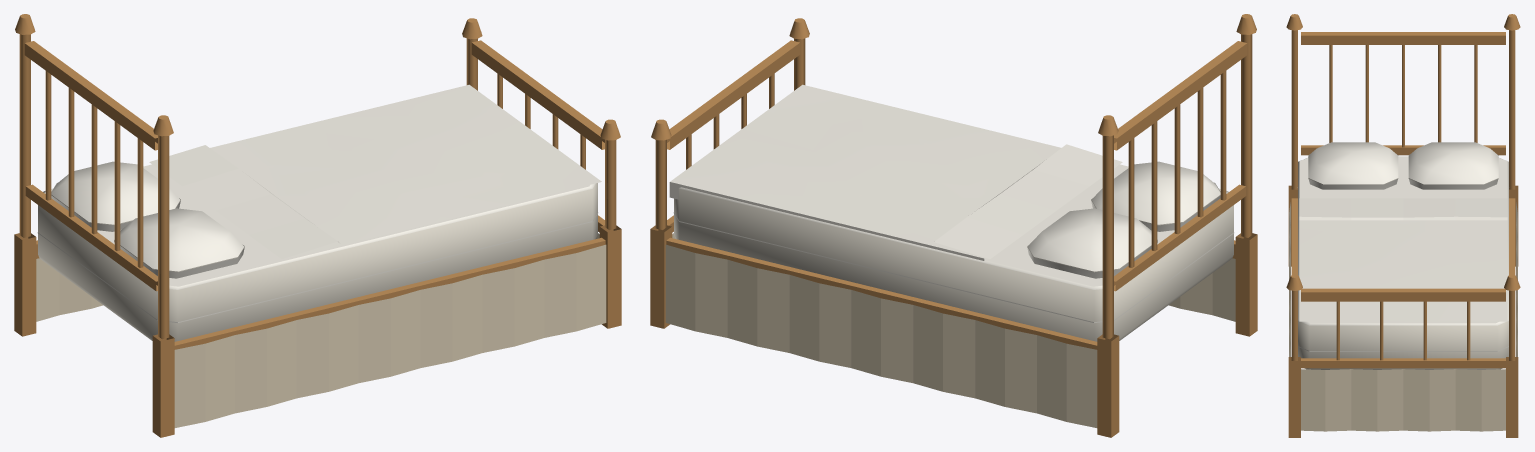
Rendered from parametric-bed-1st.glb.
3 views of the same model, side by side, from view 1: azimuth 30°, elevation 25°; view 2: azimuth 150°, elevation 25°; view 3: azimuth 270°, elevation 25° (orthographic). The views are drawn at different scales.
Parts seen in each view (by area): view 1: parametric-bed-1st; view 2: parametric-bed-1st; view 3: parametric-bed-1st.
Part boxes in pixels (<box>): parametric-bed-1st: <box>14,14,621,437</box>; parametric-bed-1st: <box>650,14,1257,437</box>; parametric-bed-1st: <box>1286,14,1520,437</box>.
Bounding box in the file's own units: 2.02 × 1.31 × 1.12.
